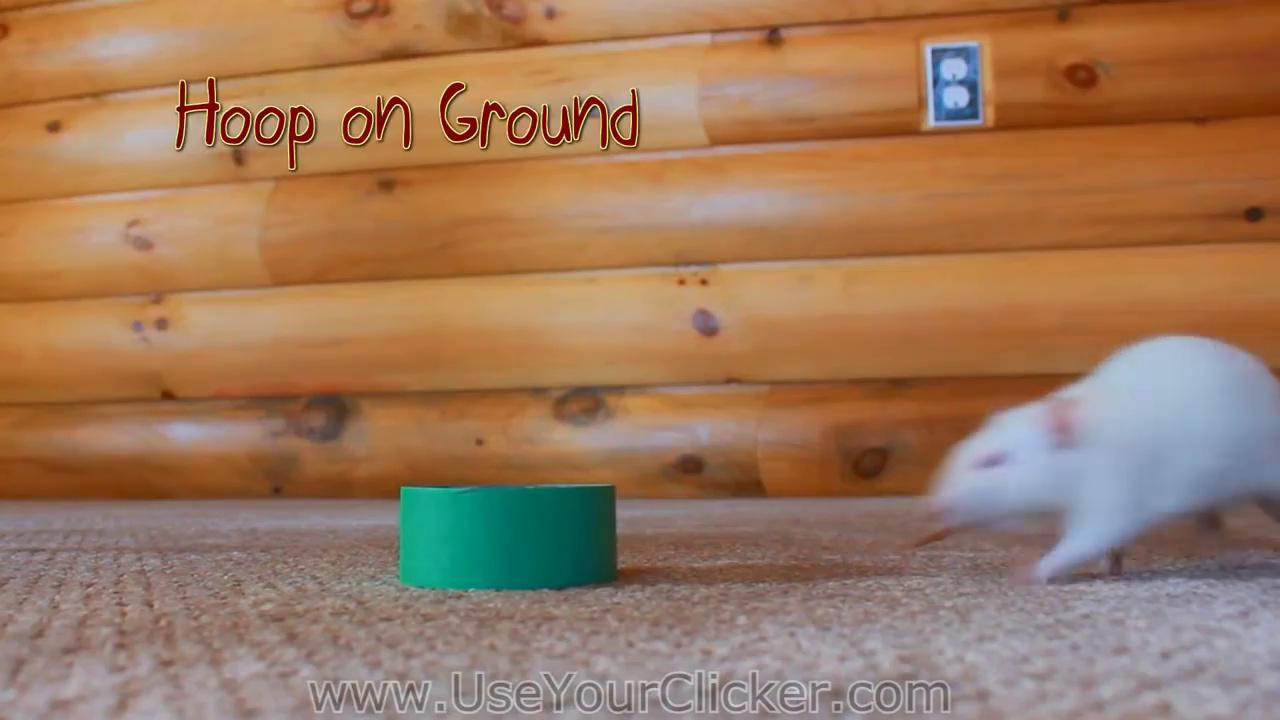rat: (909, 335, 1280, 583)
